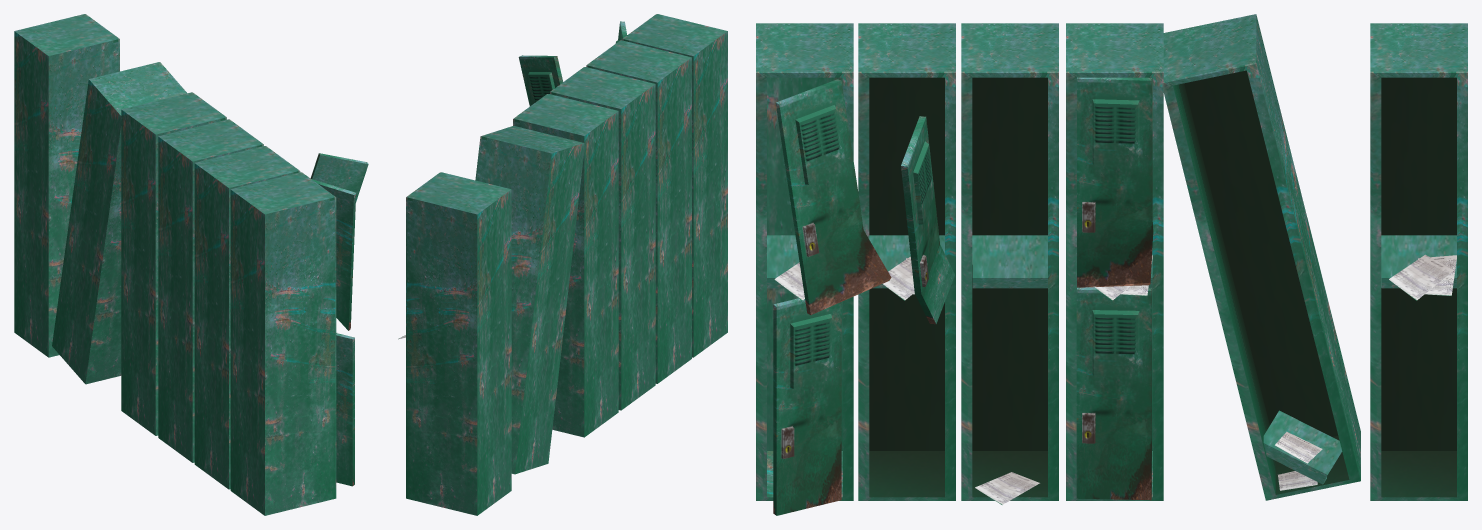
Rendered from Lockers01.fbx.
3 renders of one model, left to right at view 1: azimuth 30°, elevation 25°; view 2: azimuth 150°, elevation 25°; view 3: azimuth 270°, elevation 25°, orthographic. The views are drawn at different scales.
Parts seen in each view (by area): view 1: Empty_Mesh; view 2: Empty_Mesh; view 3: Empty_Mesh.
Part boxes in pixels (bbox=[...]): Empty_Mesh: bbox=[14, 14, 368, 515]; Empty_Mesh: bbox=[398, 14, 727, 515]; Empty_Mesh: bbox=[756, 14, 1467, 515].
Size of the model in its own units: 105 by 198 by 292.
